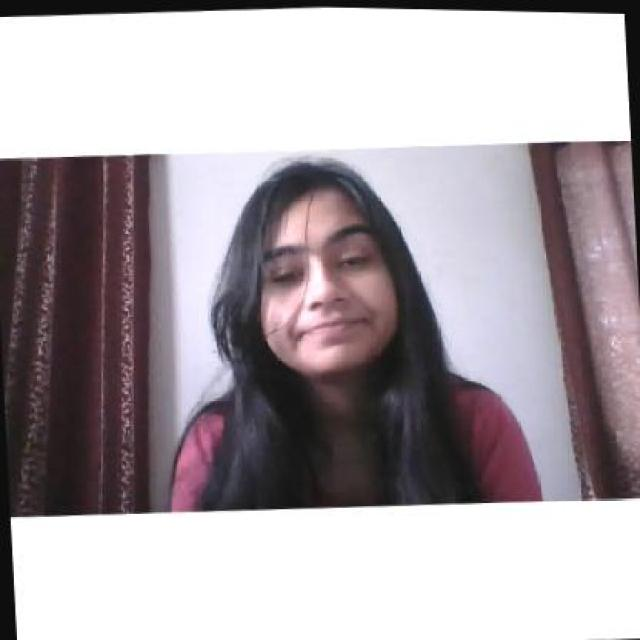attentif: (251, 152, 398, 376)
